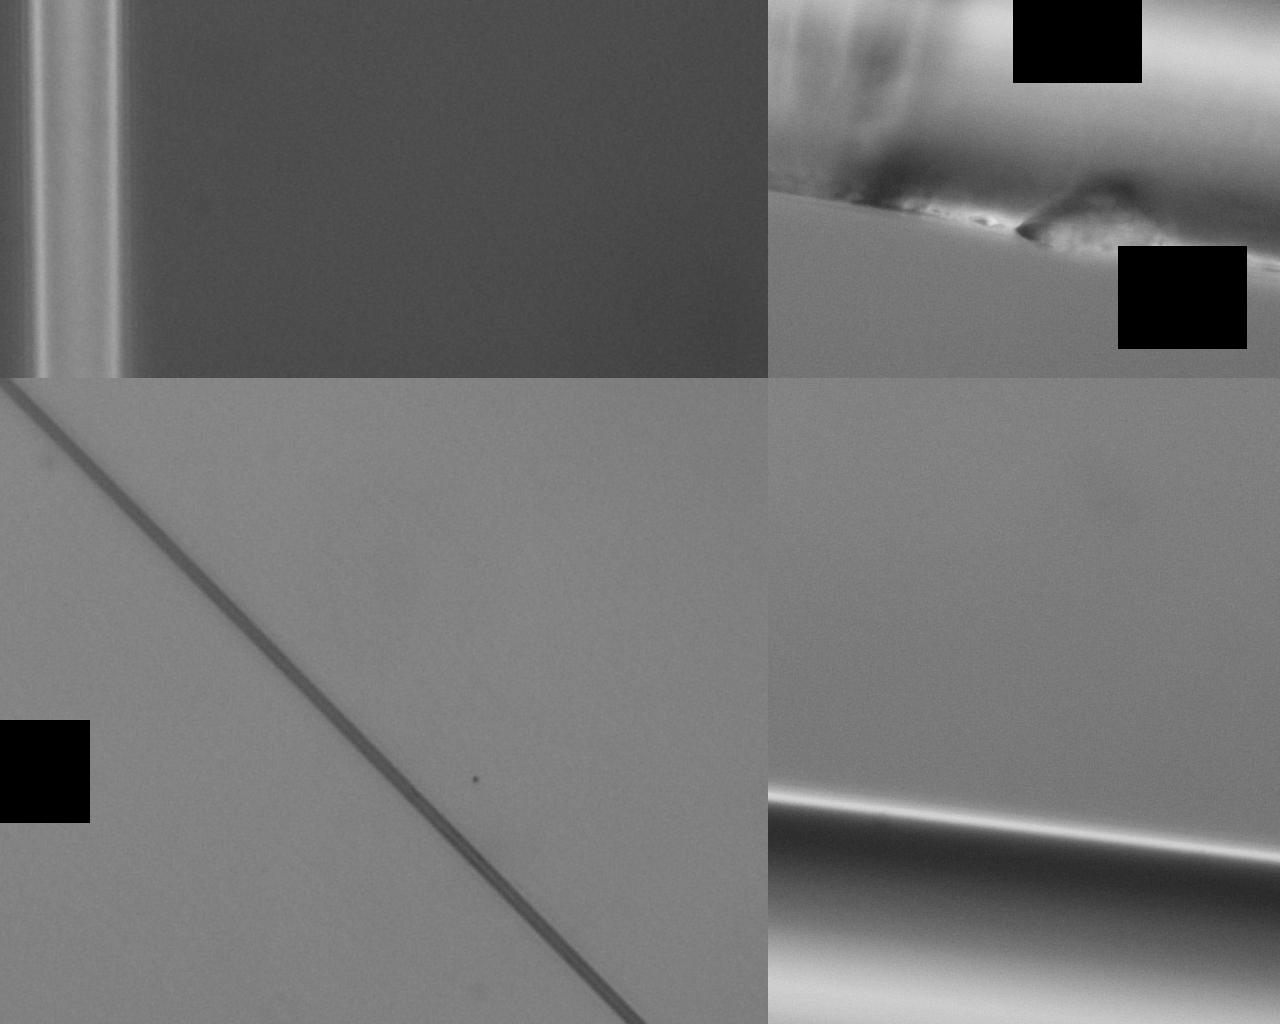fiber: (924, 552, 1279, 1024), (489, 0, 1280, 169)
